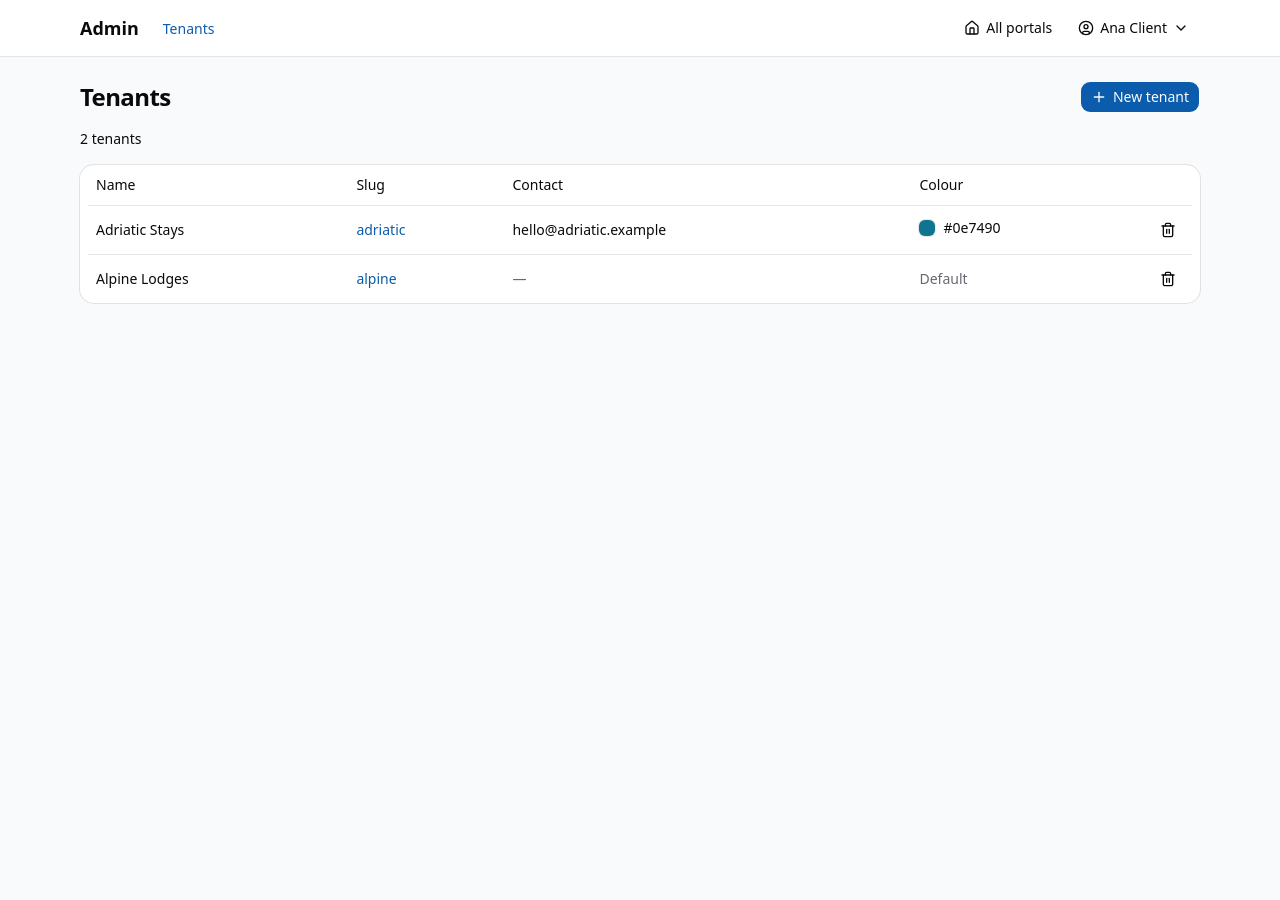
Scenario: AdminTenantsPage › deletes a tenant once its slug is typed
Click the button named "Delete Adriatic Stays".
click(1168, 230)  # box top-left (1152, 214), bottom-right (1184, 246)
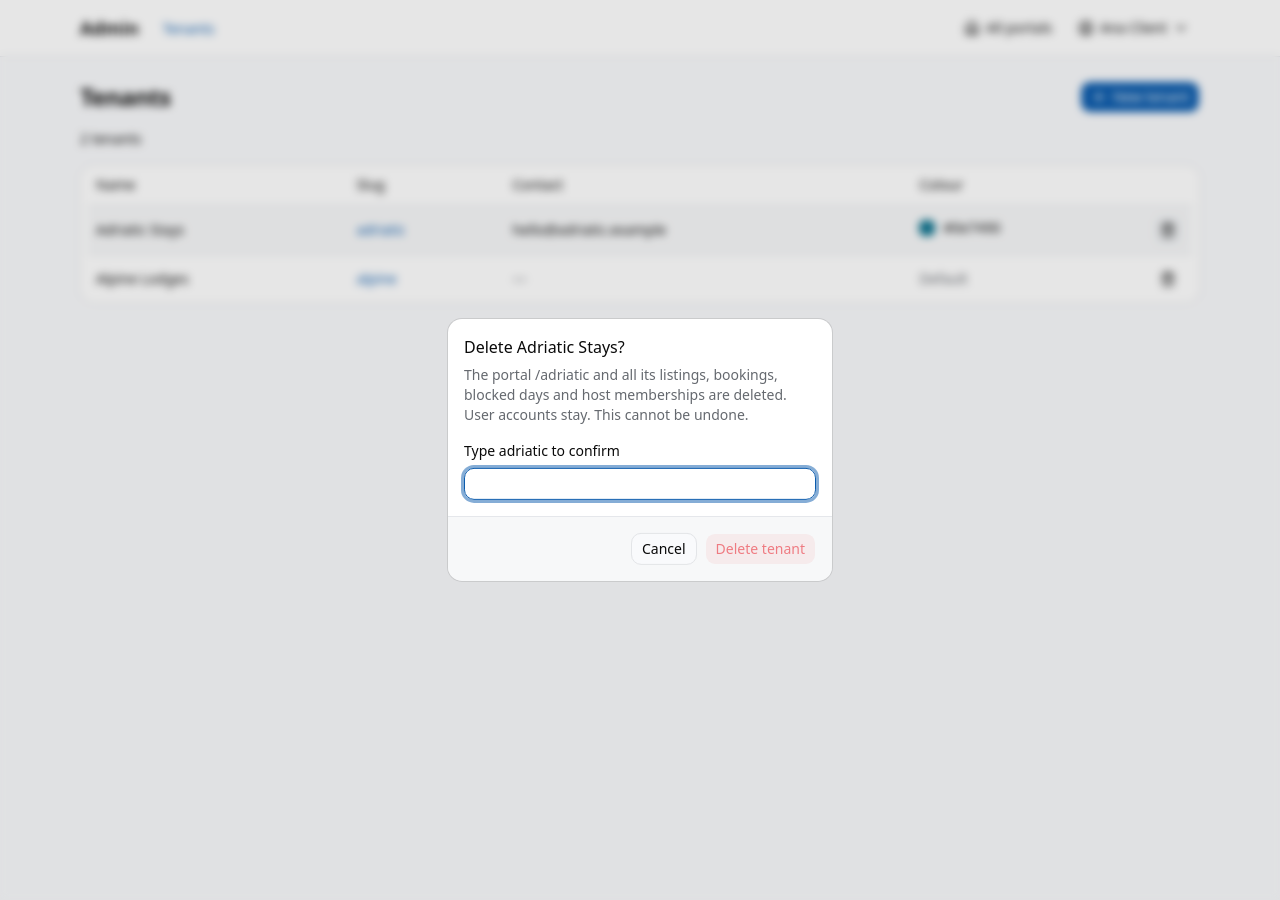
Expected: the dialog "Delete Adriatic Stays?" shows "The portal /adriatic and all its listings, bookings, blocked days and host memberships are deleted. User accounts stay.", top-left (448, 319), bottom-right (832, 581)
Expected: the button "Delete tenant" is disabled, top-left (705, 533), bottom-right (816, 565)
Type "adriati" into the field labelled "Type adriatic to confirm".
click(640, 484); type("adriati")  # box top-left (464, 468), bottom-right (816, 500)
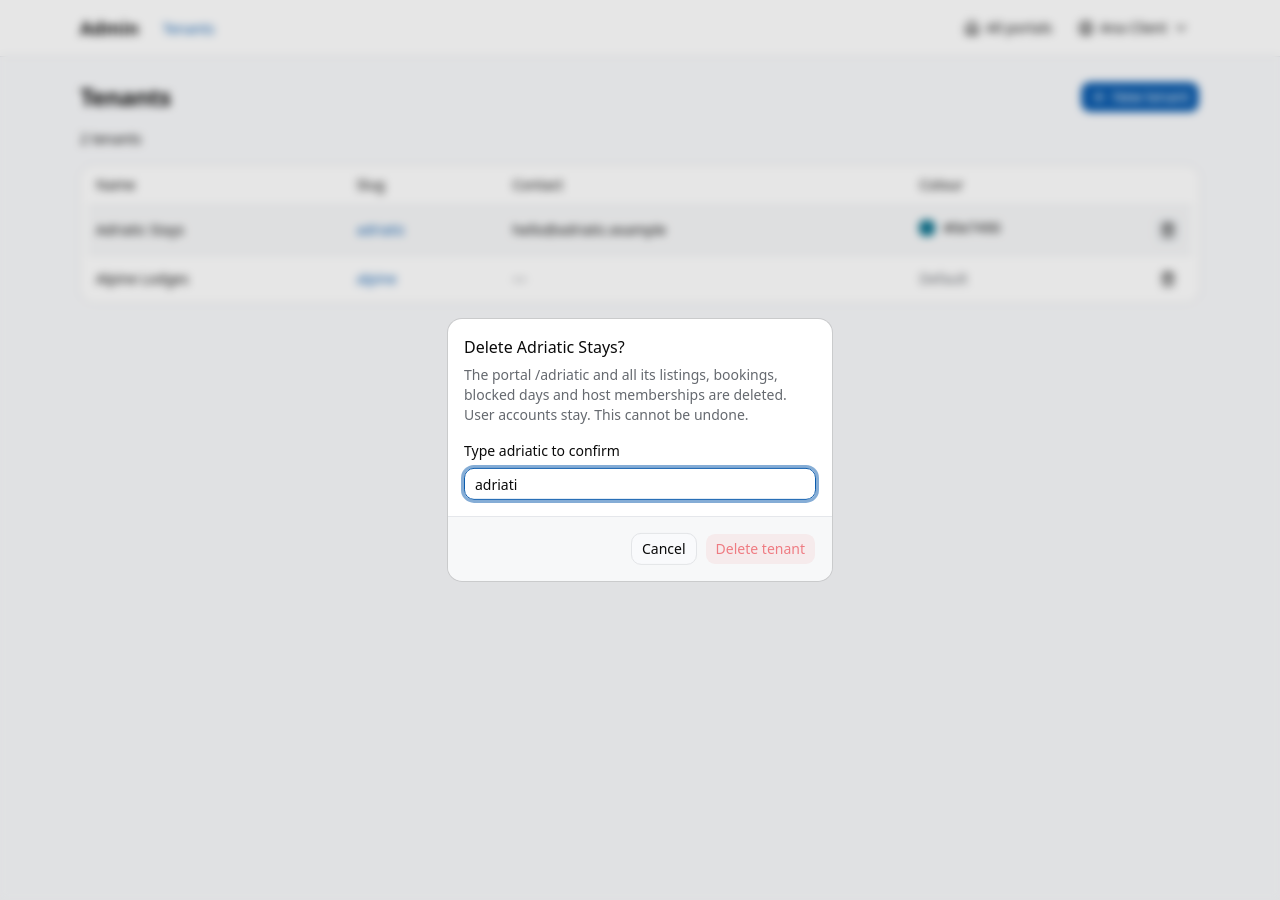
Expected: the button "Delete tenant" is disabled, top-left (705, 533), bottom-right (816, 565)
Type "c" into the field labelled "Type adriatic to confirm".
click(640, 484); type("c")  # box top-left (464, 468), bottom-right (816, 500)
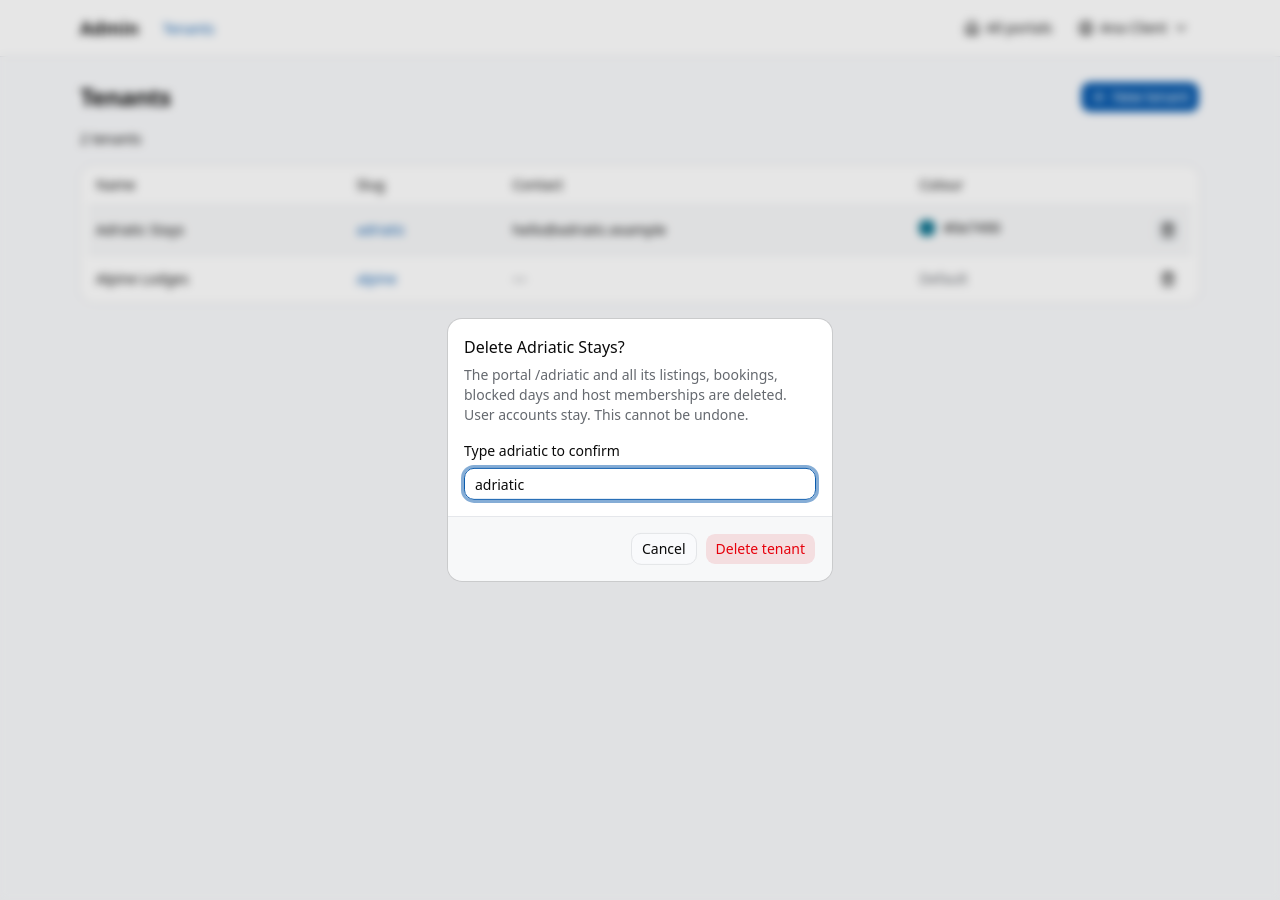
Click the button "Delete tenant".
click(760, 549)  # box top-left (705, 533), bottom-right (816, 565)
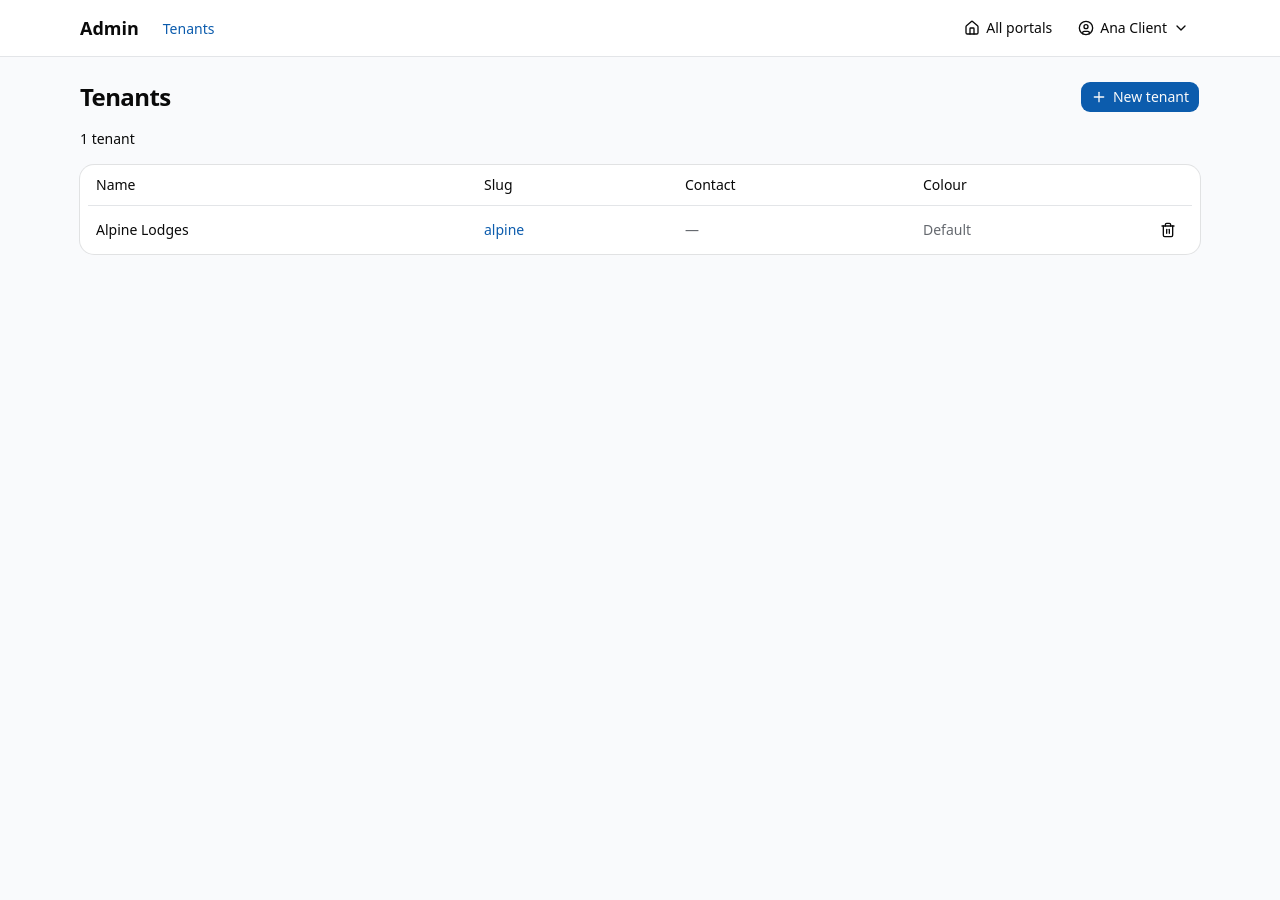
Expected: the link "Alpine Lodges" is shown, top-left (96, 220), bottom-right (189, 238)
Expected: the link "Adriatic Stays" is gone
Expected: the dialog is gone
